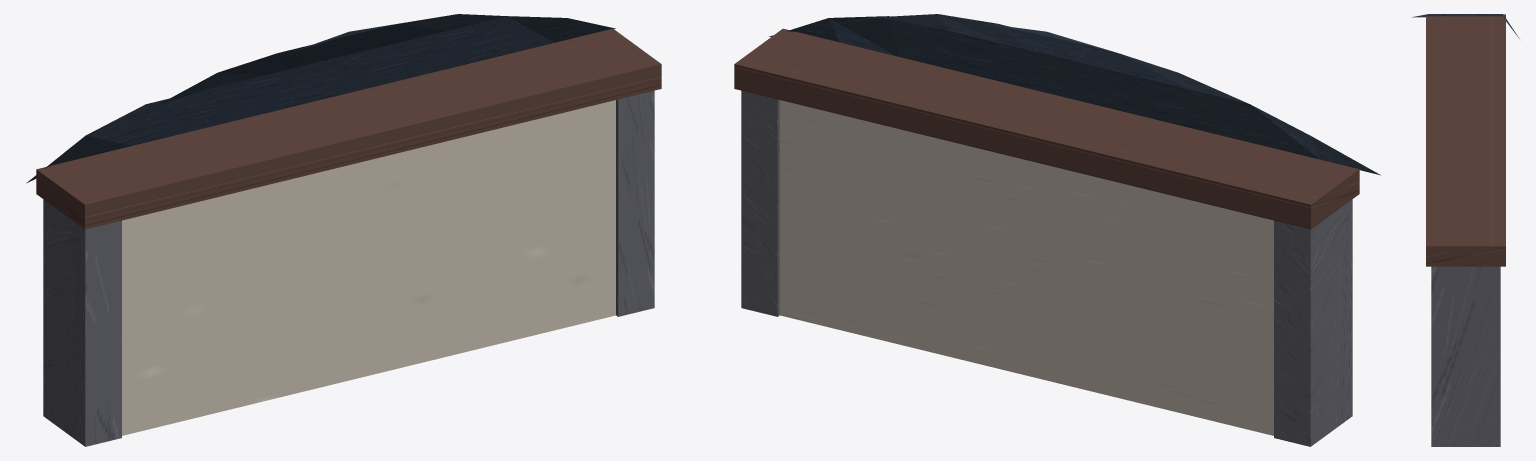
The model's file is shogun_city_wall_module_lod1.glb.
The picture shows the model from 3 angles, left to right: view 1: azimuth 30°, elevation 25°; view 2: azimuth 150°, elevation 25°; view 3: azimuth 270°, elevation 25°; orthographic projection. The views are drawn at different scales.
Parts seen in each view (by area): view 1: shogun_city_wall_module_000, shogun_city_wall_module_001, shogun_city_wall_module_002, shogun_city_wall_module_005, shogun_city_wall_module_006; view 2: shogun_city_wall_module_000, shogun_city_wall_module_001, shogun_city_wall_module_002, shogun_city_wall_module_005, shogun_city_wall_module_006; view 3: shogun_city_wall_module_001, shogun_city_wall_module_006, shogun_city_wall_module_002.
Part boxes in pixels (box(x1,y1,x2,y2)): shogun_city_wall_module_000: box(122, 100, 615, 435); shogun_city_wall_module_001: box(36, 28, 661, 229); shogun_city_wall_module_002: box(26, 14, 615, 183); shogun_city_wall_module_005: box(43, 199, 121, 446); shogun_city_wall_module_006: box(616, 90, 654, 316); shogun_city_wall_module_000: box(780, 100, 1273, 435); shogun_city_wall_module_001: box(734, 28, 1359, 229); shogun_city_wall_module_002: box(769, 14, 1380, 175); shogun_city_wall_module_005: box(1274, 199, 1352, 446); shogun_city_wall_module_006: box(741, 90, 779, 316); shogun_city_wall_module_001: box(1426, 14, 1505, 266); shogun_city_wall_module_006: box(1431, 266, 1500, 446); shogun_city_wall_module_002: box(1412, 14, 1519, 38).
Bounding box in the file's own units: 16.5 × 8.65 × 3.2.
Materials: 4 (4 with a texture image).
